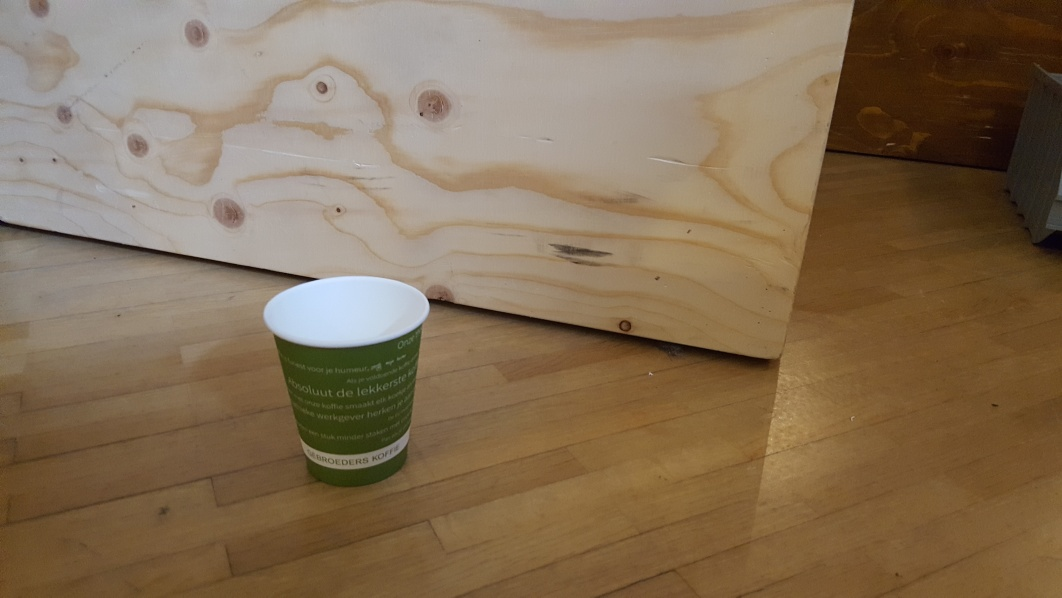cup: (261, 273, 431, 488)
